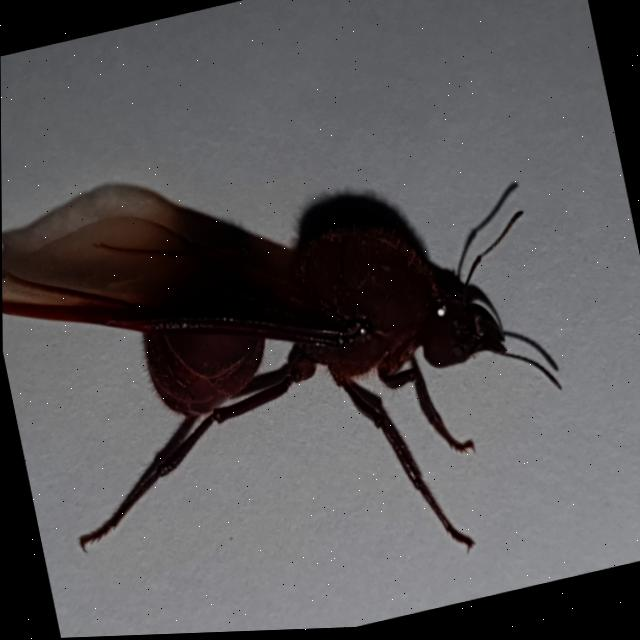Alive-Female-Alate: (1, 125, 590, 640)
